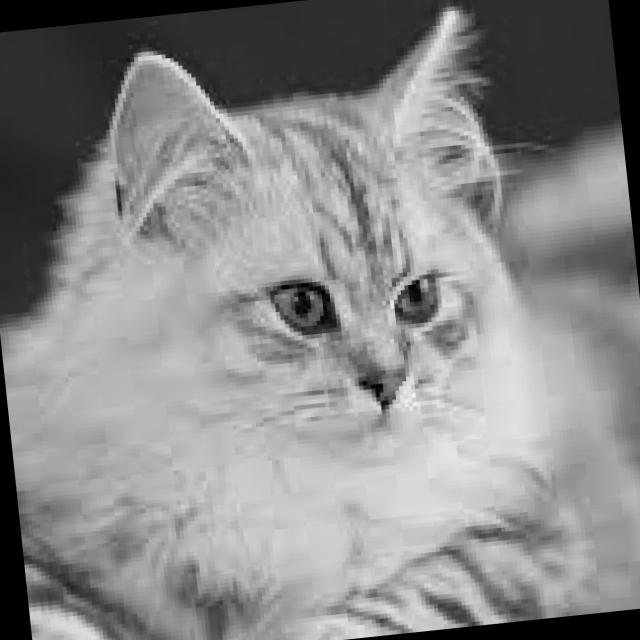british: (66, 0, 538, 515)
